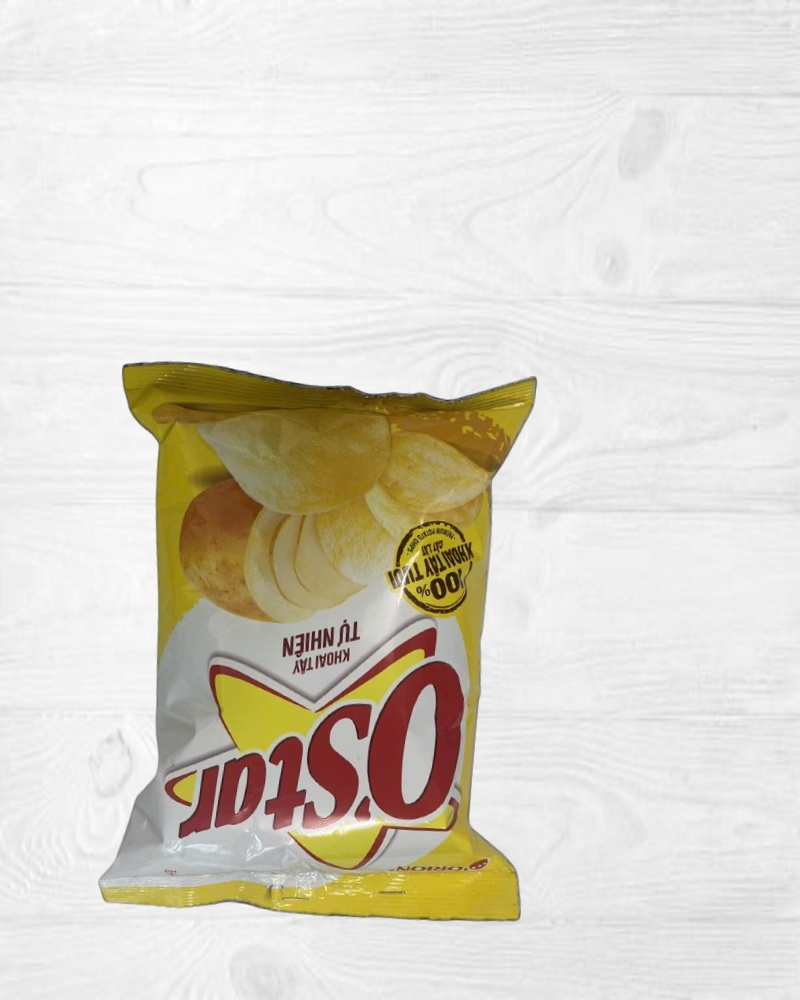Snack cua: (82, 348, 565, 932)
